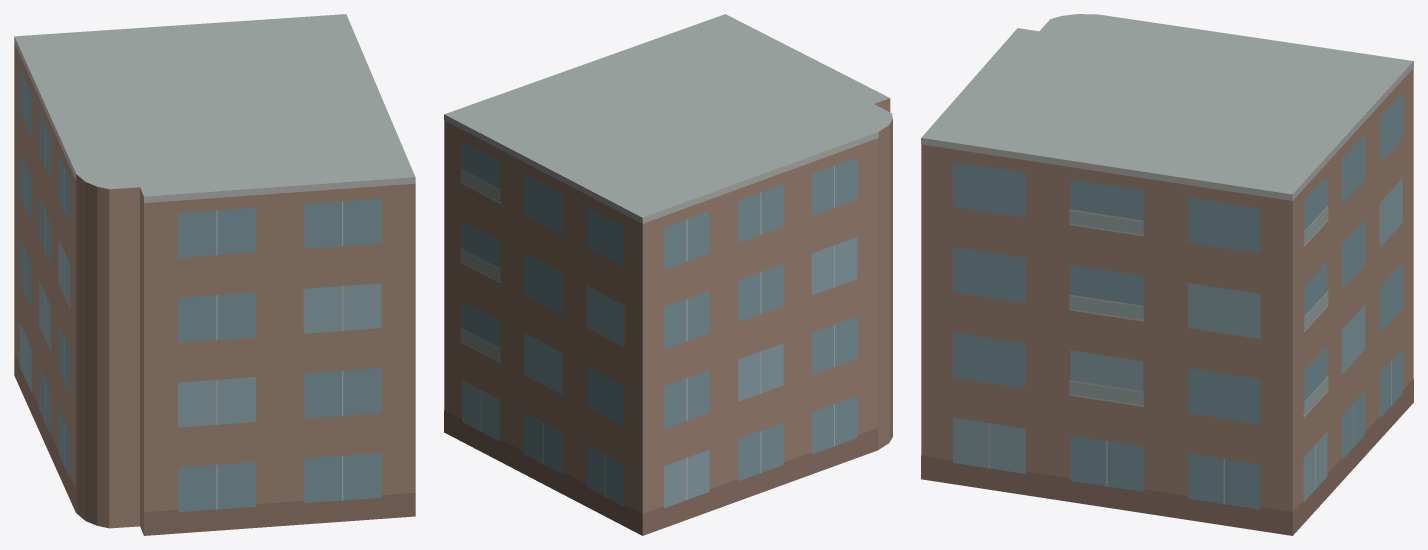
File: survey-upis-33043221.glb
The picture shows the model from 3 angles, left to right: view 1: azimuth 30°, elevation 25°; view 2: azimuth 150°, elevation 25°; view 3: azimuth 270°, elevation 25°; orthographic projection. The views are drawn at different scales.
Parts seen in each view (by area): view 1: survey-upis-33043221.tmp; view 2: survey-upis-33043221.tmp; view 3: survey-upis-33043221.tmp.
Boxes of the visible parts, bbox=[...] form: survey-upis-33043221.tmp: bbox=[14, 14, 415, 535]; survey-upis-33043221.tmp: bbox=[444, 14, 892, 535]; survey-upis-33043221.tmp: bbox=[921, 14, 1413, 535].
Bounding box in the file's own units: 14.52 × 12.8 × 16.75.
